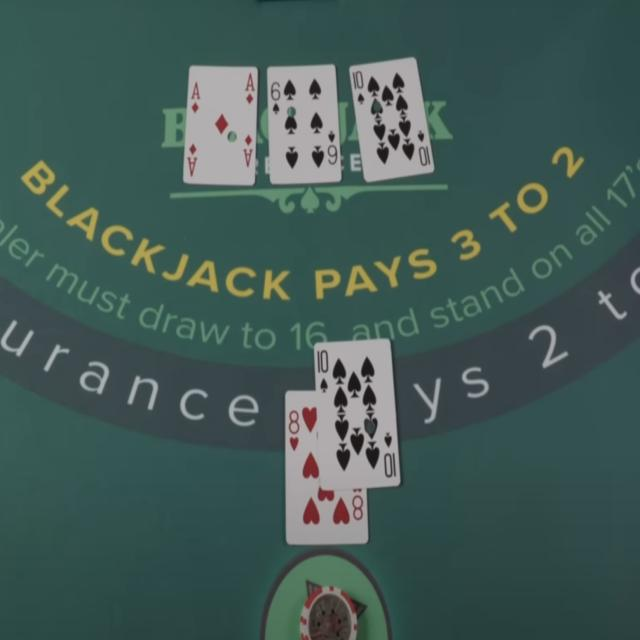10: (316, 348, 330, 374), (352, 68, 366, 90)
6: (270, 79, 282, 102)
8: (287, 410, 302, 436)
A: (190, 80, 203, 101)
